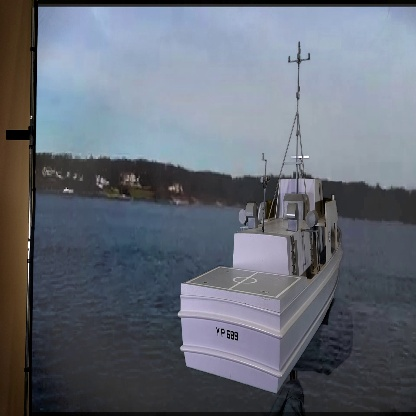YP689: (178, 41, 343, 397)
